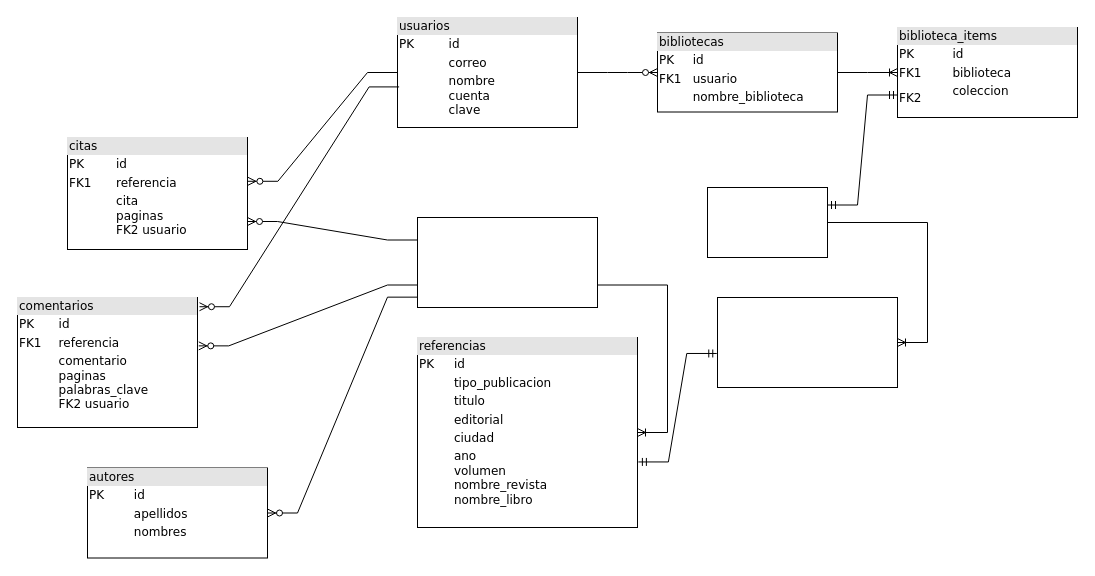
This 1095x576 diagram has some shape labels left out. The centre of each missing label's shape, as x and y in pixels:
coleccion_items PK id FK1 coleccion FK2 referencia: [807,342]
colecciones PK id nombre_coll: [767,222]
publicaciones PK id FK1 referencia FK2 autor: [507,262]
